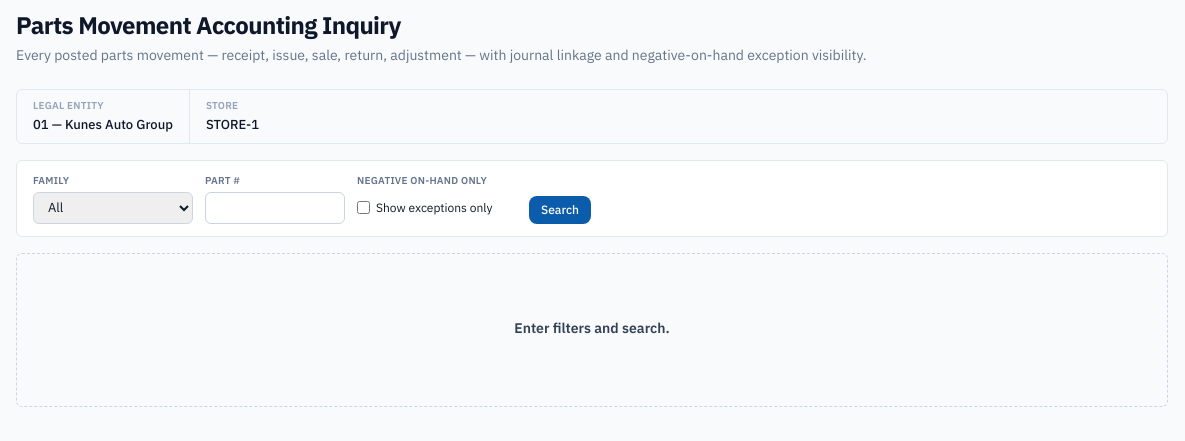
Test: PartsMovements › shows the unauthorized state on a 401/403 response
The width and height of the screenshot is (1185, 441).
Click the button with test id "parts-movements-search": (560, 210) 529,196 -> 591,224
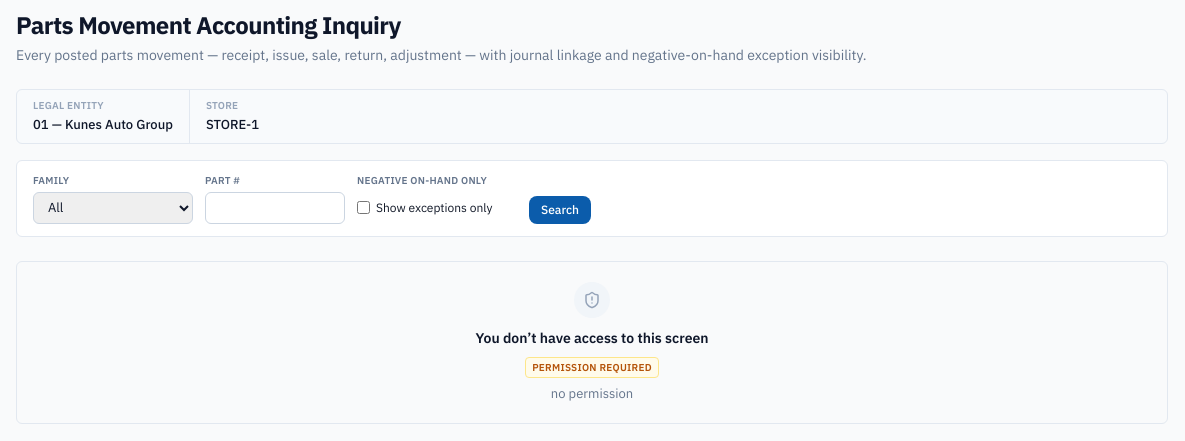
Expected: the element with test id "parts-movements-unauthorized" is shown, 16,260 -> 1168,424
